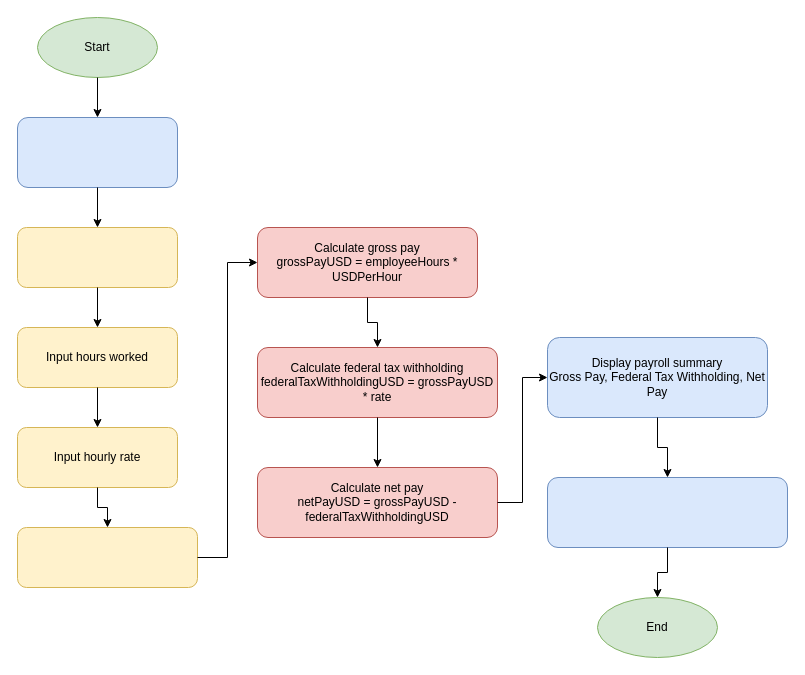
Image size: 805x675. Some labels were removed from this diagram. The centre of each missing label's shape, as x and y in pixels:
Goodbye Thank you for using the Weekly Payroll program: the point at 667,512
Input employee ID: the point at 97,257
Input federal withholding rate: the point at 107,557
Welcome Welcome to my Weekly Payroll Program: the point at 97,152
